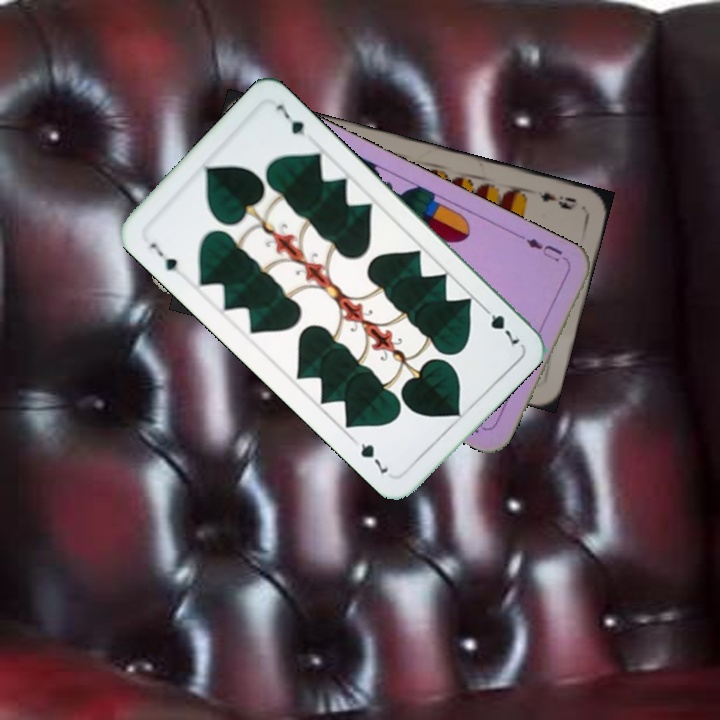E9: (534, 187, 581, 213)
EU: (516, 231, 571, 266)
G7: (477, 301, 523, 350), (146, 238, 180, 274)
